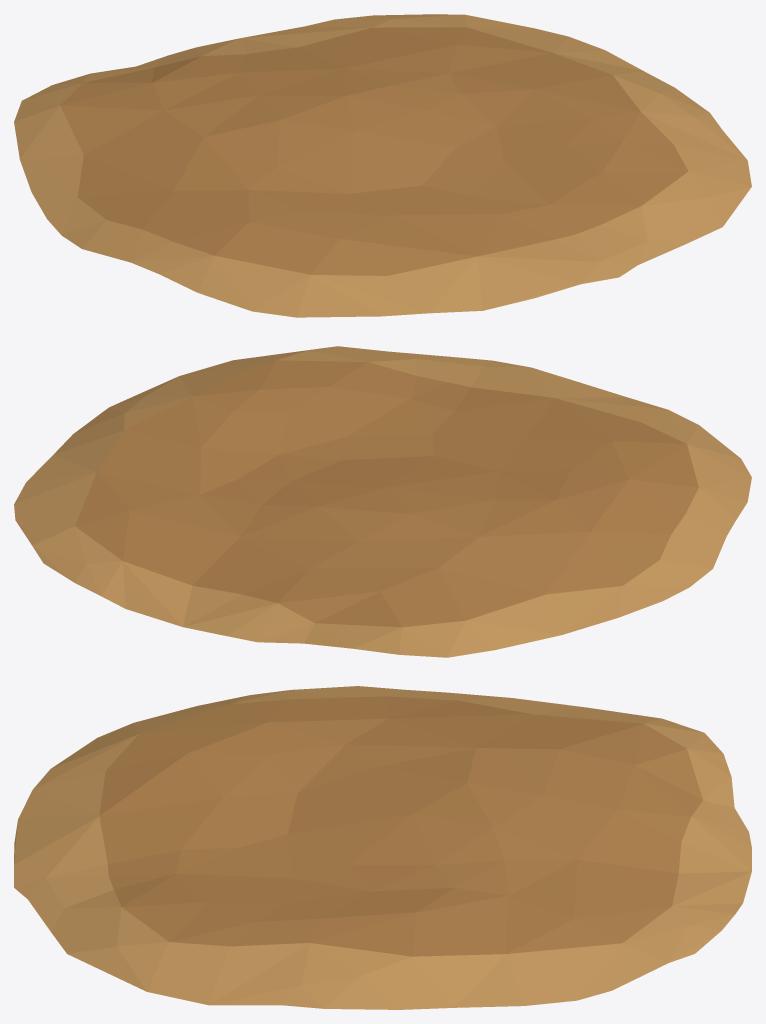
File: EA_M_Env_Sand_01a.fbx
3 views of the same model, one above another, from view 1: azimuth 30°, elevation 25°; view 2: azimuth 150°, elevation 25°; view 3: azimuth 270°, elevation 25° (orthographic). The views are drawn at different scales.
Parts seen in each view (by area): view 1: EA_M_Env_Sand_01a_LOD0; view 2: EA_M_Env_Sand_01a_LOD0; view 3: EA_M_Env_Sand_01a_LOD0.
Part boxes in pixels (x1,y1,x2,y2): EA_M_Env_Sand_01a_LOD0: (14,14,751,317); EA_M_Env_Sand_01a_LOD0: (14,346,751,657); EA_M_Env_Sand_01a_LOD0: (14,686,751,1009).
Size of what is drawn, in the model's own units: 7.17 by 0.418 by 6.95.
